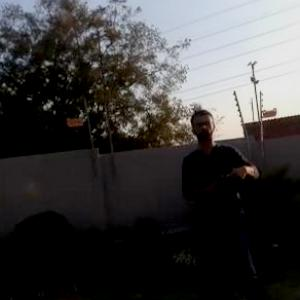follow: (178, 104, 271, 299)
